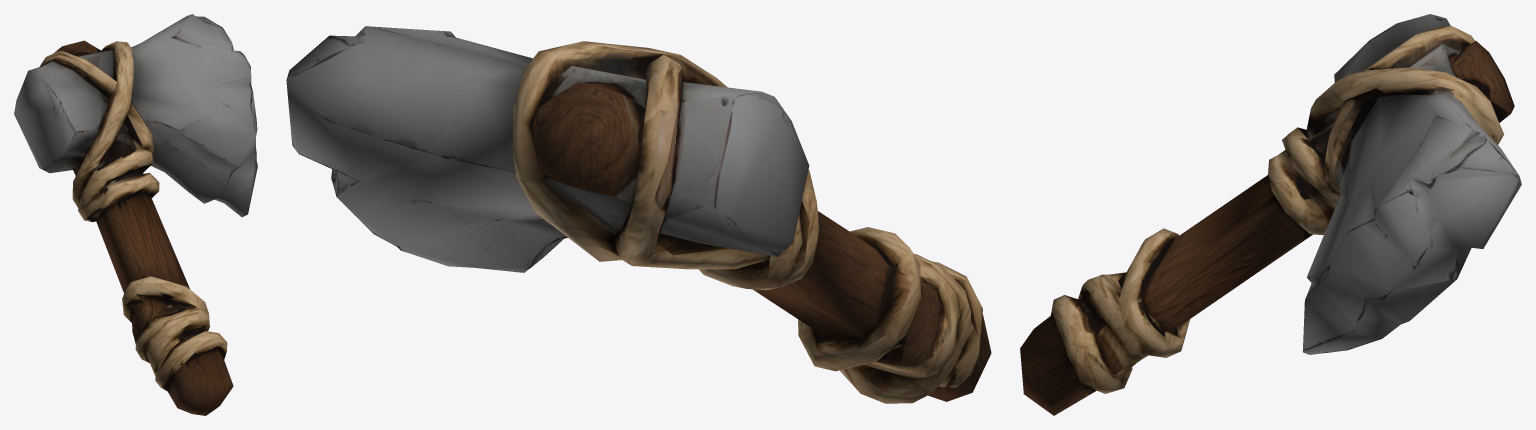
3 renders of one model, left to right at view 1: azimuth 30°, elevation 25°; view 2: azimuth 150°, elevation 25°; view 3: azimuth 270°, elevation 25°, orthographic. The views are drawn at different scales.
Visible parts, largest first — view 1: texture_pbr_v128; view 2: texture_pbr_v128; view 3: texture_pbr_v128.
Part boxes in pixels (left/top/right/bottom): texture_pbr_v128: left=14, top=14, right=257, bottom=415; texture_pbr_v128: left=286, top=26, right=991, bottom=403; texture_pbr_v128: left=1020, top=14, right=1521, bottom=415.
Size of the model in its own units: 65.23 by 73.61 by 89.07.
1 material, 1 textured.
